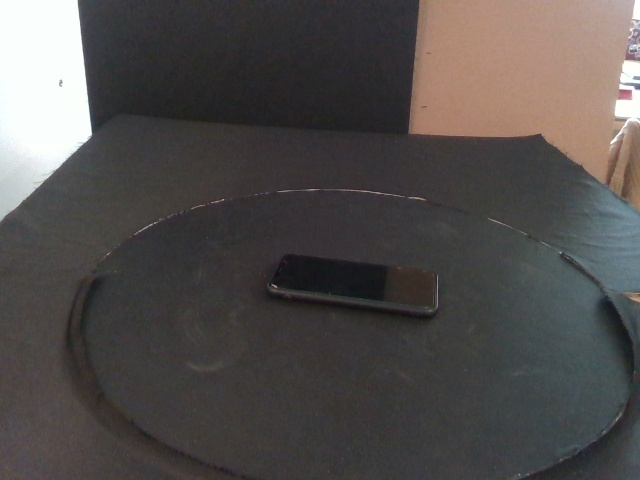phone: (268, 252, 440, 324)
